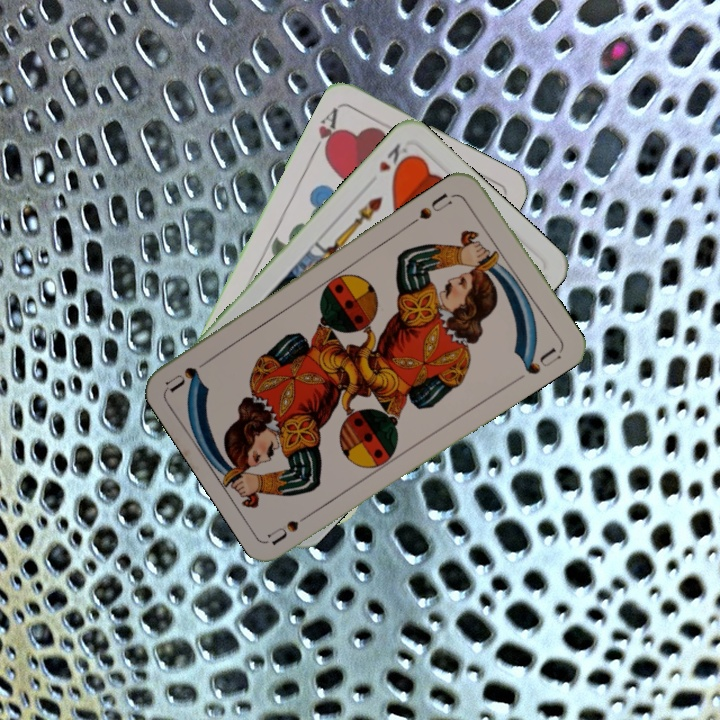HA: (308, 103, 342, 161)
HK: (374, 139, 416, 178)
SU: (265, 505, 320, 547), (415, 188, 454, 223)
